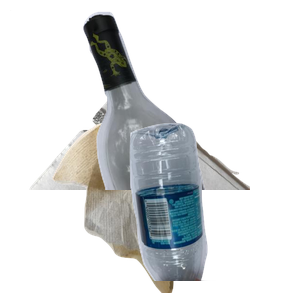glass: (81, 10, 300, 190)
paper: (10, 10, 250, 190)
plastic: (127, 120, 300, 300)
trash: (50, 120, 219, 300)
